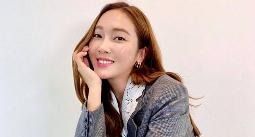face: (89, 10, 137, 80)
